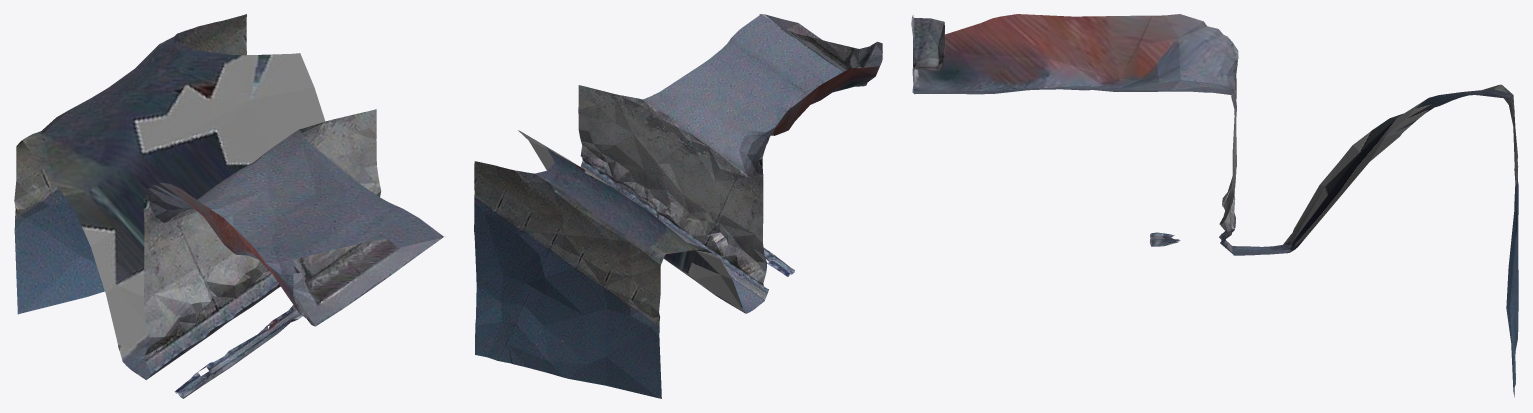
The model's file is Tile_+001_+006_L22_00231.obj.
3 views of the same model, side by side, from view 1: azimuth 30°, elevation 25°; view 2: azimuth 150°, elevation 25°; view 3: azimuth 270°, elevation 25° (orthographic). The views are drawn at different scales.
Size of the model in its own units: 3.81 by 3.81 by 7.99.
1 material, 1 textured.
